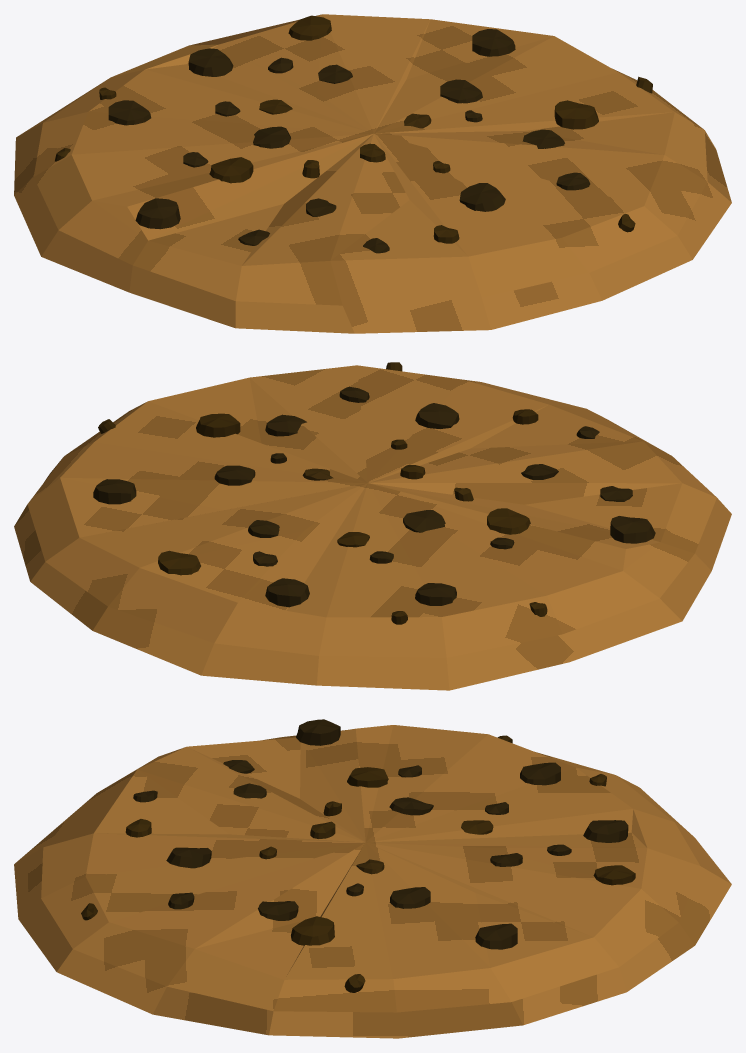
File: cookie.fbx
3 renders of one model, top to bottom at view 1: azimuth 30°, elevation 25°; view 2: azimuth 150°, elevation 25°; view 3: azimuth 270°, elevation 25°, orthographic.
Visible parts, largest first — view 1: Cookie, cylinder_23, cylinder_6, cylinder_26, cylinder_8, cylinder_13, cylinder_22, cylinder, cylinder_17, cylinder_2, cylinder_3, cylinder_12; view 2: Cookie, cylinder_23, cylinder_26, cylinder_13, cylinder_22, cylinder_6, cylinder_8, cylinder_17, cylinder, cylinder_3, cylinder_2, cylinder_12; view 3: Cookie, cylinder_6, cylinder_23, cylinder_13, cylinder_26, cylinder, cylinder_8, cylinder_2, cylinder_22, cylinder_12, cylinder_17, cylinder_3.
Boxes of the visible parts, <box> form: Cookie: <box>14,14,731,333</box>; cylinder_23: <box>135,198,180,229</box>; cylinder_6: <box>554,100,598,129</box>; cylinder_26: <box>188,48,233,76</box>; cylinder_8: <box>459,183,505,211</box>; cylinder_13: <box>472,29,515,56</box>; cylinder_22: <box>209,157,253,183</box>; cylinder: <box>108,100,151,125</box>; cylinder_17: <box>288,15,331,40</box>; cylinder_2: <box>440,79,482,103</box>; cylinder_3: <box>253,126,290,148</box>; cylinder_12: <box>522,129,564,148</box>; Cookie: <box>14,365,731,690</box>; cylinder_23: <box>610,516,655,543</box>; cylinder_26: <box>265,578,309,607</box>; cylinder_13: <box>93,479,136,504</box>; cylinder_22: <box>487,508,530,534</box>; cylinder_6: <box>196,413,240,437</box>; cylinder_8: <box>415,403,459,428</box>; cylinder_17: <box>158,550,200,575</box>; cylinder: <box>415,583,456,605</box>; cylinder_3: <box>403,510,445,532</box>; cylinder_2: <box>214,465,255,485</box>; cylinder_12: <box>265,414,306,436</box>; Cookie: <box>14,725,731,1038</box>; cylinder_6: <box>291,916,334,945</box>; cylinder_23: <box>296,719,340,745</box>; cylinder_13: <box>475,923,517,949</box>; cylinder_26: <box>583,820,628,842</box>; cylinder: <box>520,762,560,785</box>; cylinder_8: <box>166,847,211,868</box>; cylinder_2: <box>389,887,430,908</box>; cylinder_22: <box>347,767,388,787</box>; cylinder_12: <box>258,901,298,920</box>; cylinder_17: <box>593,865,635,885</box>; cylinder_3: <box>389,797,433,815</box>.
Bounding box in the file's own units: 103 × 9.06 × 103.
Materials: 2 (2 with a texture image).
